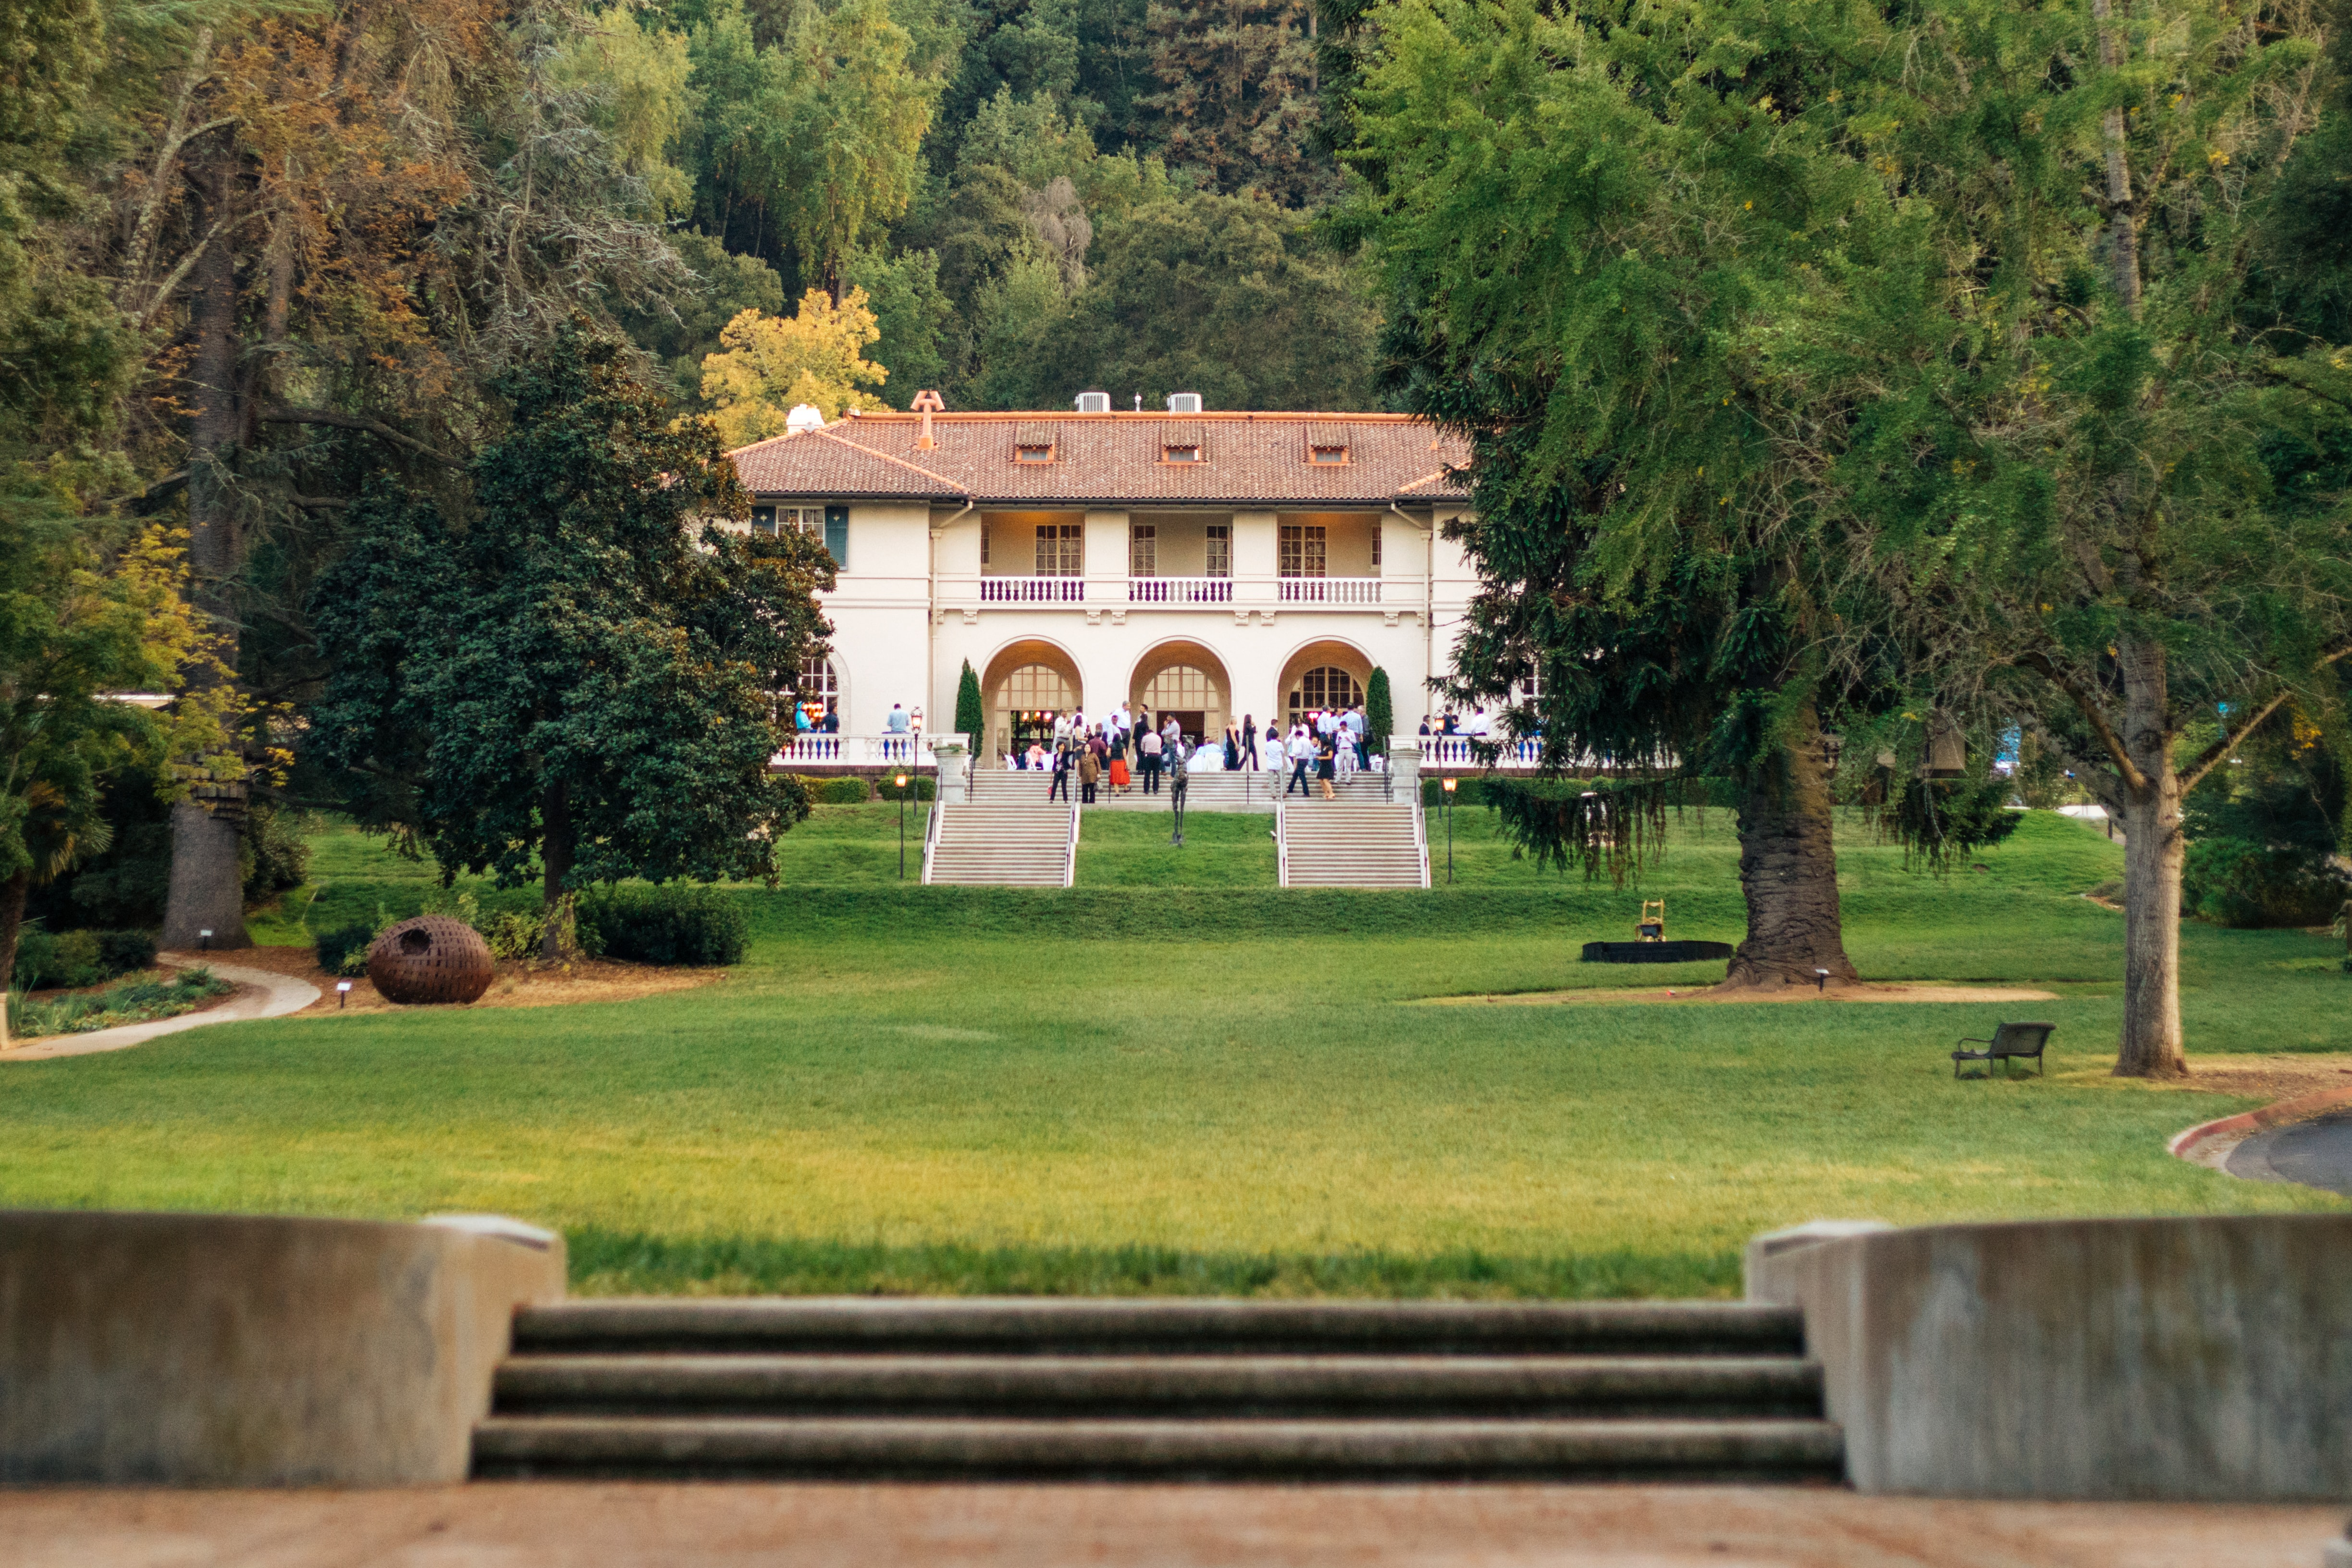upstairs: (584, 1281, 1745, 1498)
